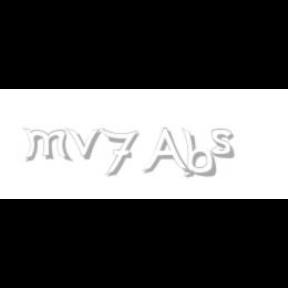7: (102, 128, 140, 178)
A: (142, 128, 190, 176)
b: (181, 128, 219, 178)
m: (22, 128, 74, 162)
s: (211, 128, 239, 160)
v: (65, 128, 105, 160)
